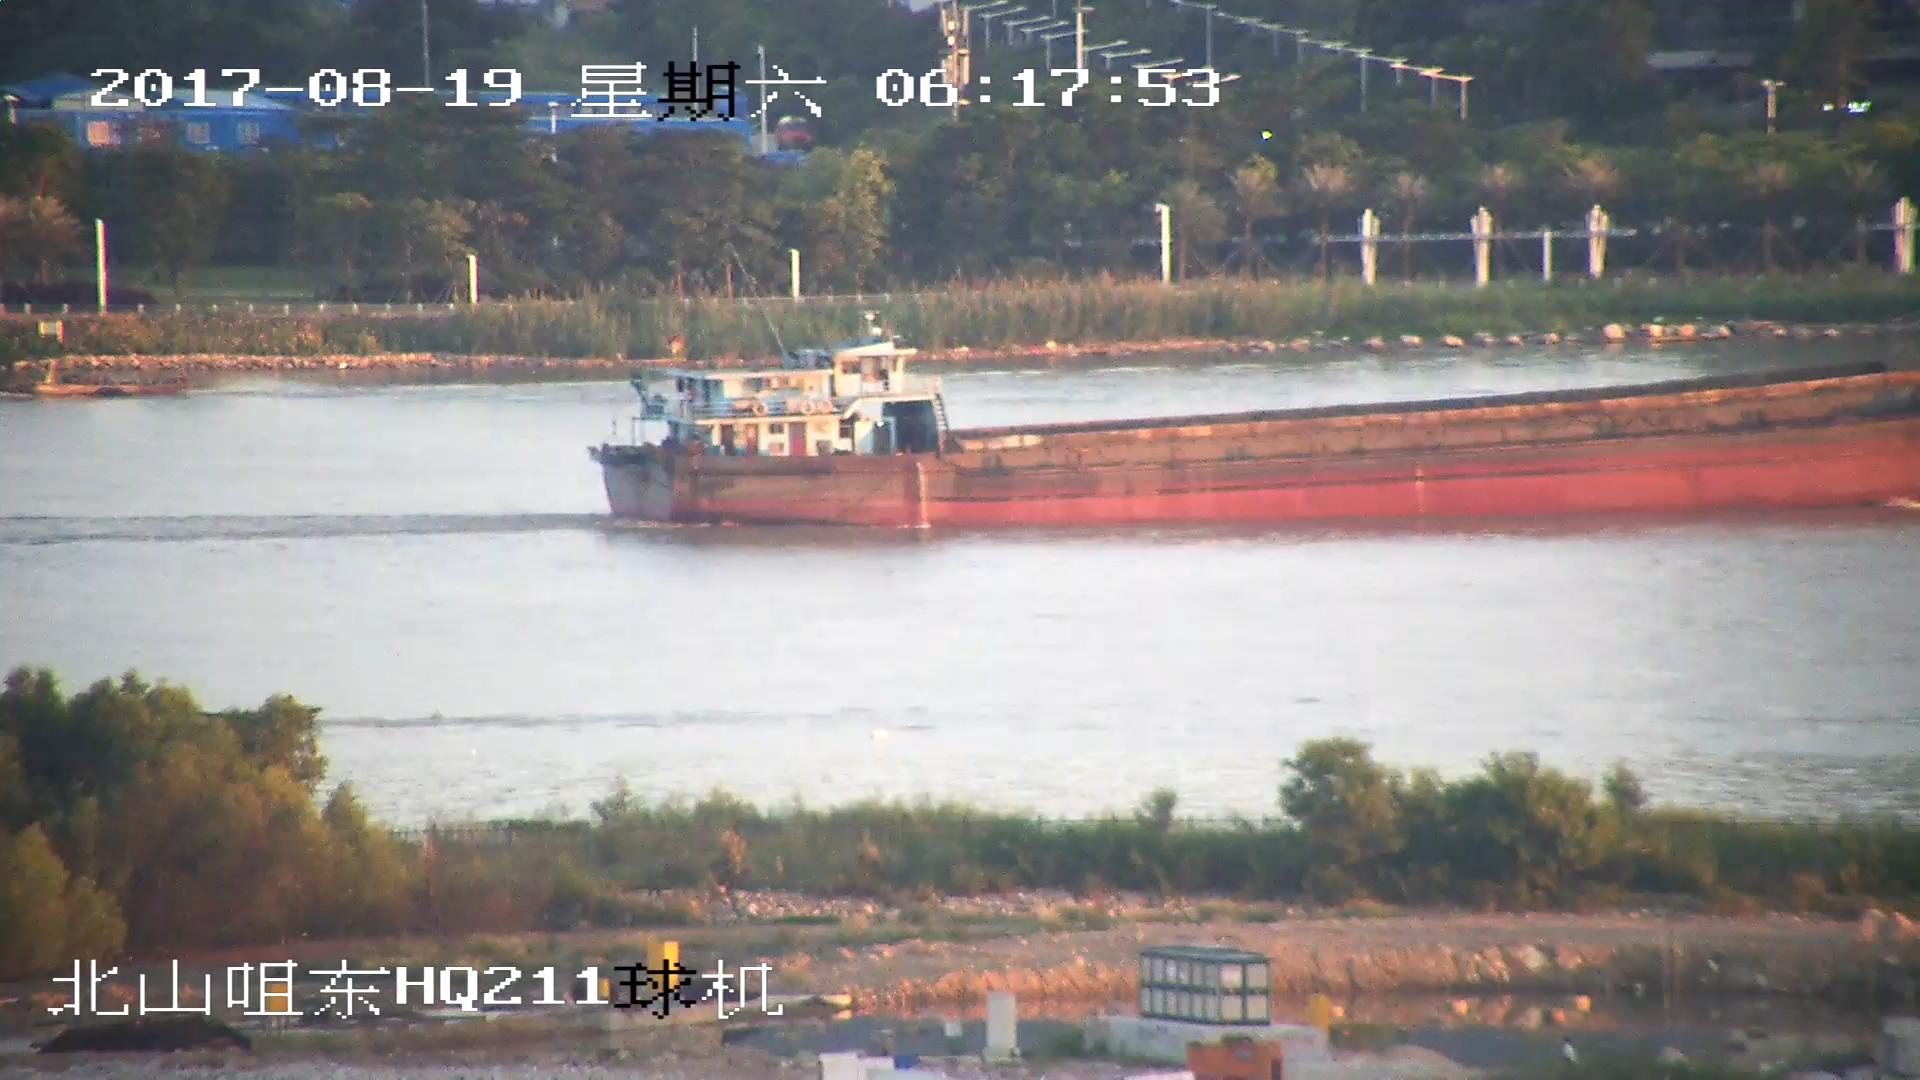bulk cargo carrier: (587, 330, 1920, 529)
